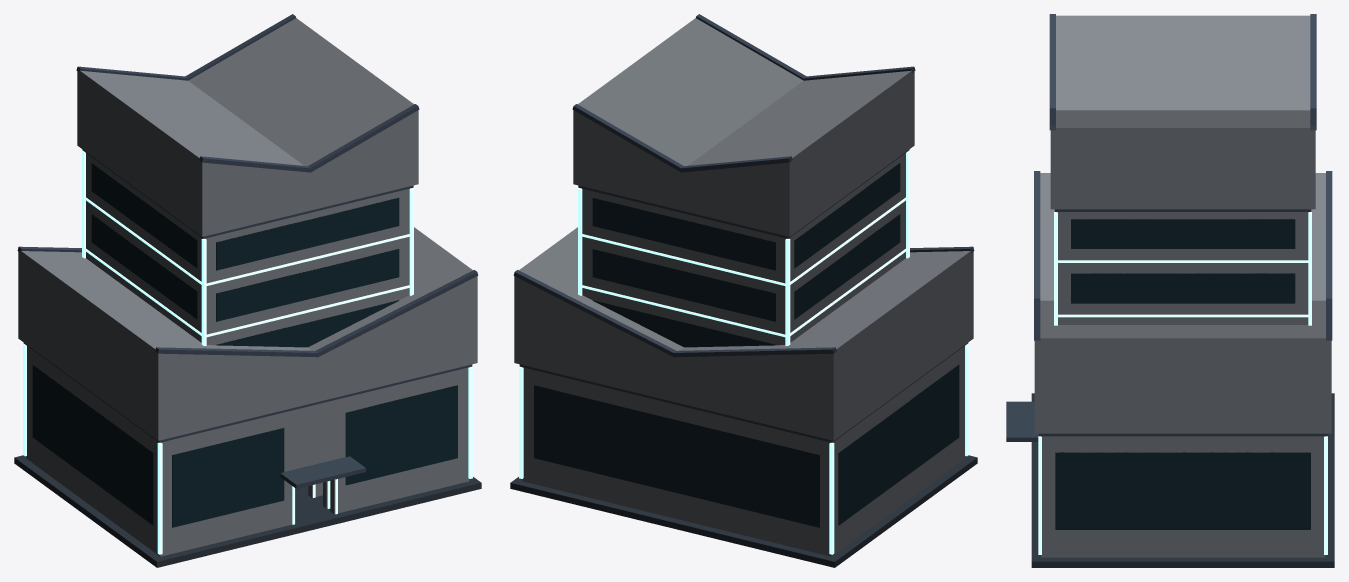
The model's file is shaddai_realm_buildings_suburb_v01.glb.
The picture shows the model from 3 angles, left to right: view 1: azimuth 30°, elevation 25°; view 2: azimuth 150°, elevation 25°; view 3: azimuth 270°, elevation 25°; orthographic projection. The views are drawn at different scales.
Parts seen in each view (by area): view 1: shaddai_bld_suburb_hall, shaddai_bld_suburb_tower; view 2: shaddai_bld_suburb_hall, shaddai_bld_suburb_tower; view 3: shaddai_bld_suburb_tower, shaddai_bld_suburb_hall.
Part boxes in pixels (bbox=[...]): shaddai_bld_suburb_hall: bbox=[14, 227, 481, 567]; shaddai_bld_suburb_tower: bbox=[76, 14, 419, 508]; shaddai_bld_suburb_hall: bbox=[510, 227, 977, 567]; shaddai_bld_suburb_tower: bbox=[572, 14, 915, 347]; shaddai_bld_suburb_tower: bbox=[1022, 14, 1316, 441]; shaddai_bld_suburb_hall: bbox=[1006, 171, 1334, 567].
Bounding box in the file's own units: 25.2 × 28.94 × 20.8.
